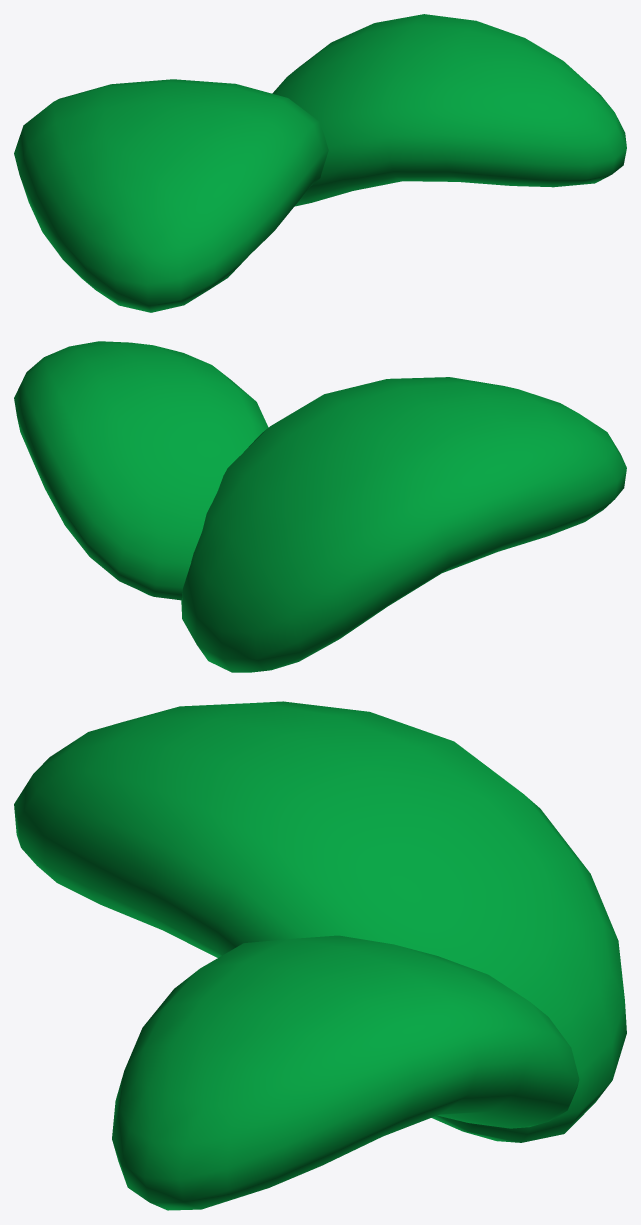
Rendered from Town_11_Grass_1.glb.
The picture shows the model from 3 angles, top to bottom: view 1: azimuth 30°, elevation 25°; view 2: azimuth 150°, elevation 25°; view 3: azimuth 270°, elevation 25°; orthographic projection. The views are drawn at different scales.
Visible parts, largest first — view 1: Town_11_Grass_1; view 2: Town_11_Grass_1; view 3: Town_11_Grass_1.
Boxes of the visible parts, left/top/right/bottom form: Town_11_Grass_1: left=14, top=14, right=626, bottom=312; Town_11_Grass_1: left=14, top=341, right=626, bottom=672; Town_11_Grass_1: left=14, top=701, right=626, bottom=1210.
Size of the model in its own units: 0.5214 by 0.1981 by 0.3464.
Materials: 1 (1 with a texture image).
